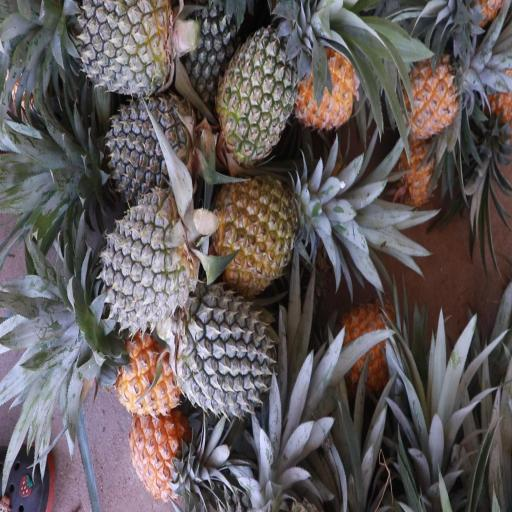------------------------------: (219, 26, 306, 159), (214, 175, 306, 288)
Pineapple - v8 v1: (108, 323, 181, 415), (294, 40, 359, 125), (340, 312, 395, 410), (129, 413, 193, 495), (400, 54, 461, 138)
